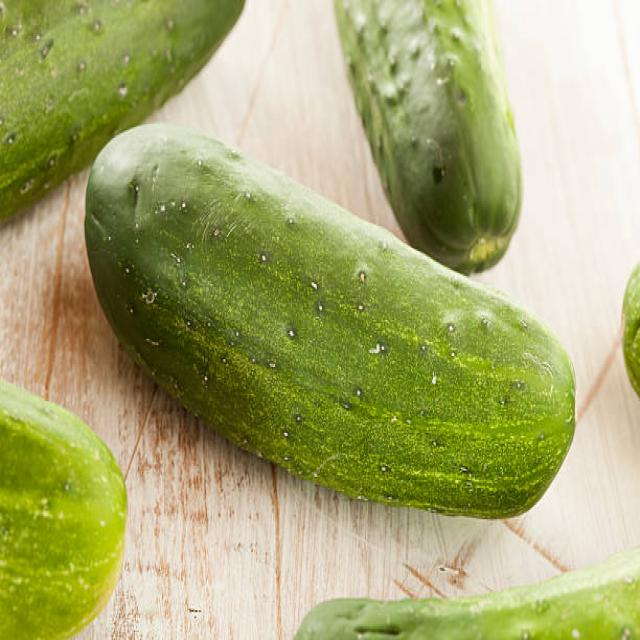cucumber: (84, 119, 575, 518), (330, 2, 522, 277)
